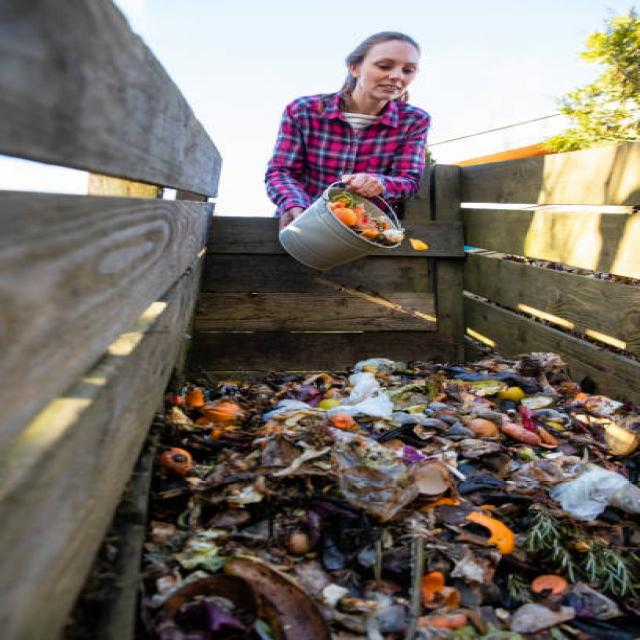plastic: (281, 182, 400, 272)
